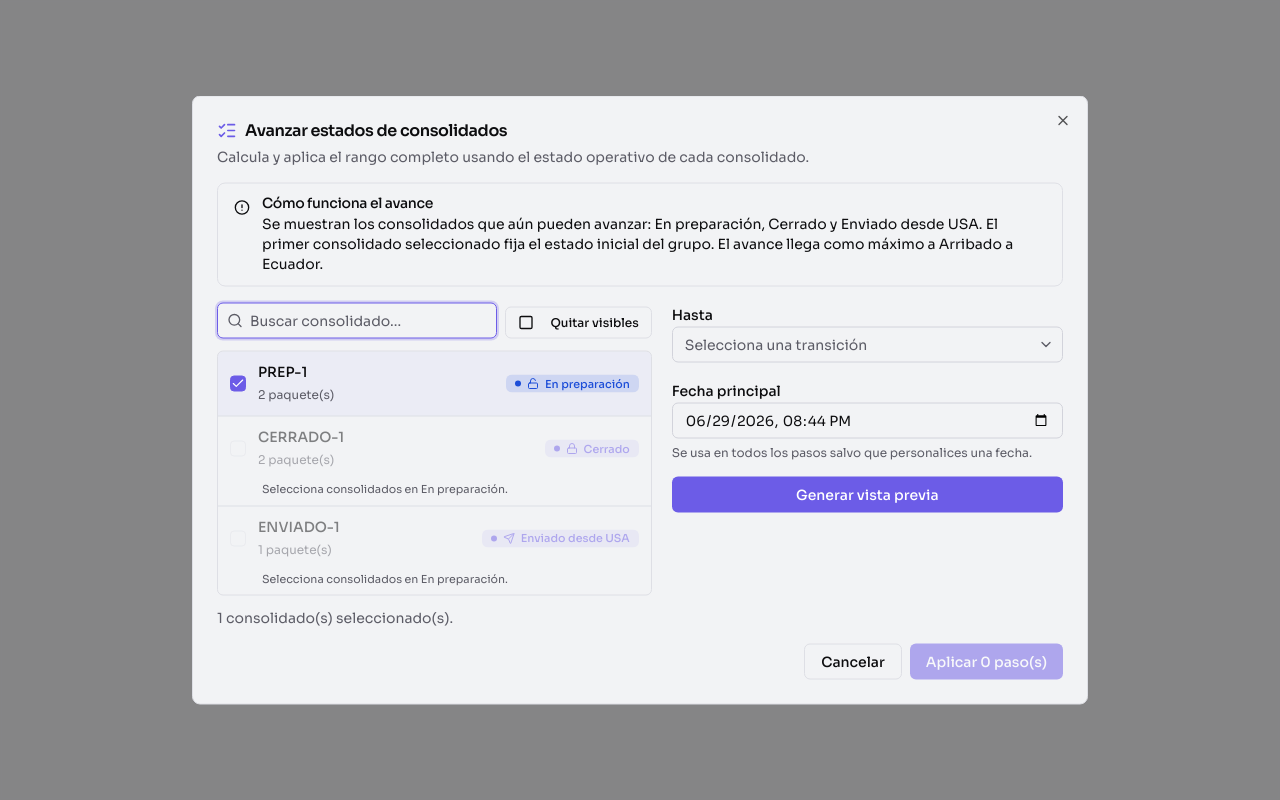
Scenario: AvanceEstadosConsolidadosDialog › muestra el mensaje de negocio devuelto por backend
The width and height of the screenshot is (1280, 800).
Click the dropdown named "Hasta": (867, 344) [672,326,1063,362]
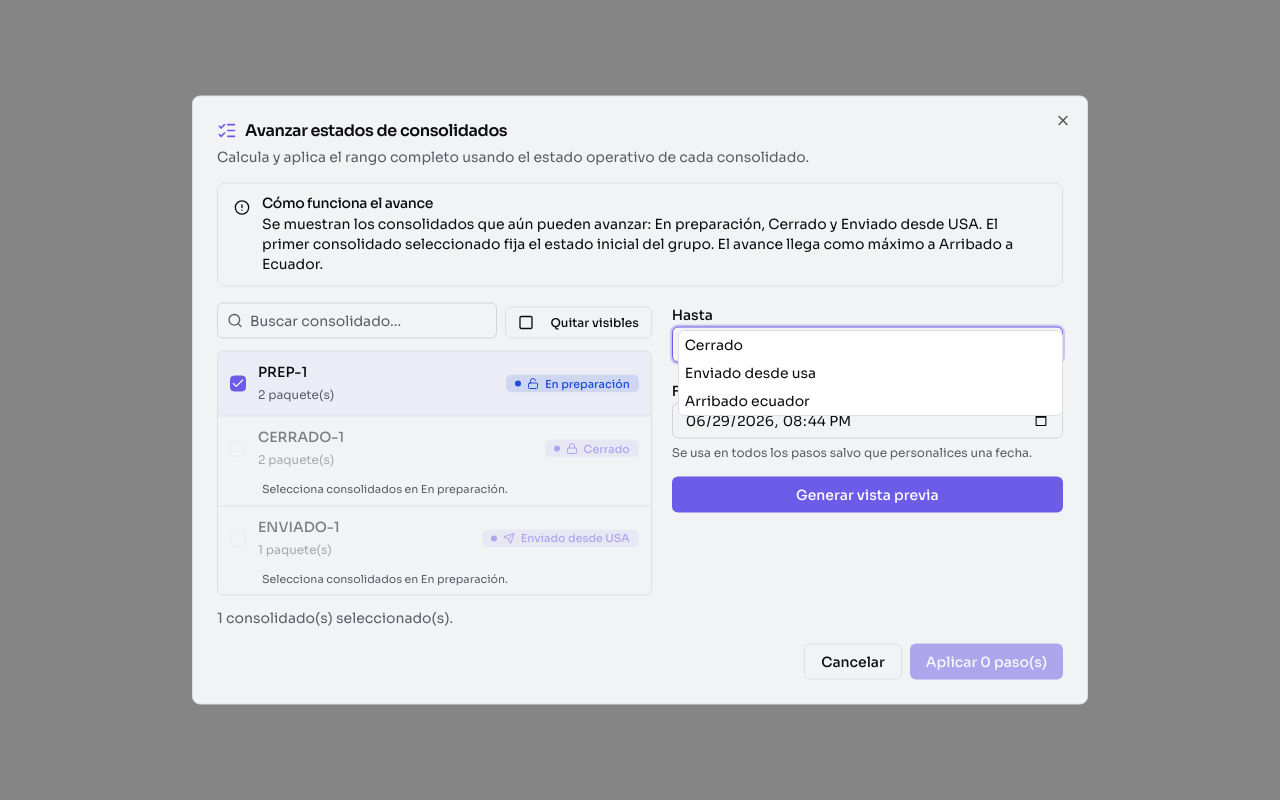
Click the option "Cerrado": (714, 344) [685,336,743,354]
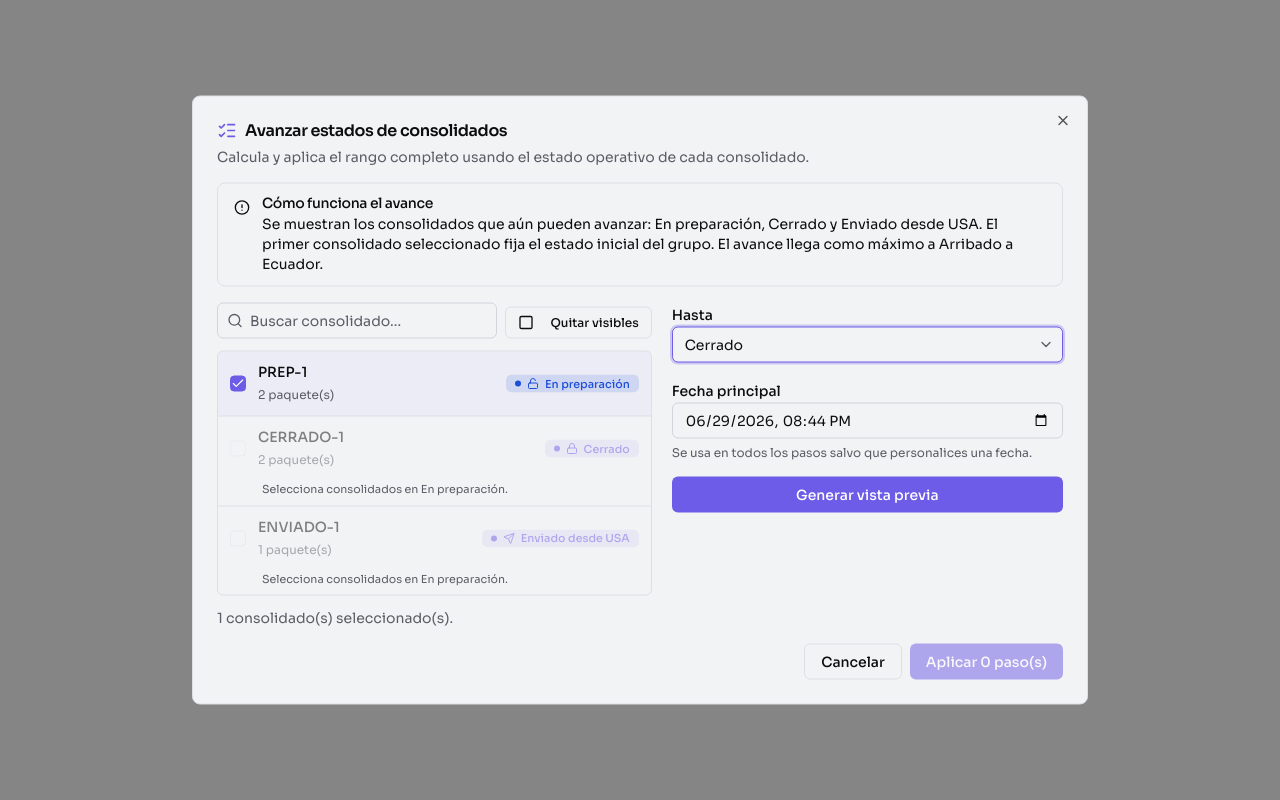
Click the button "Generar vista previa": (867, 494) [672,476,1063,512]
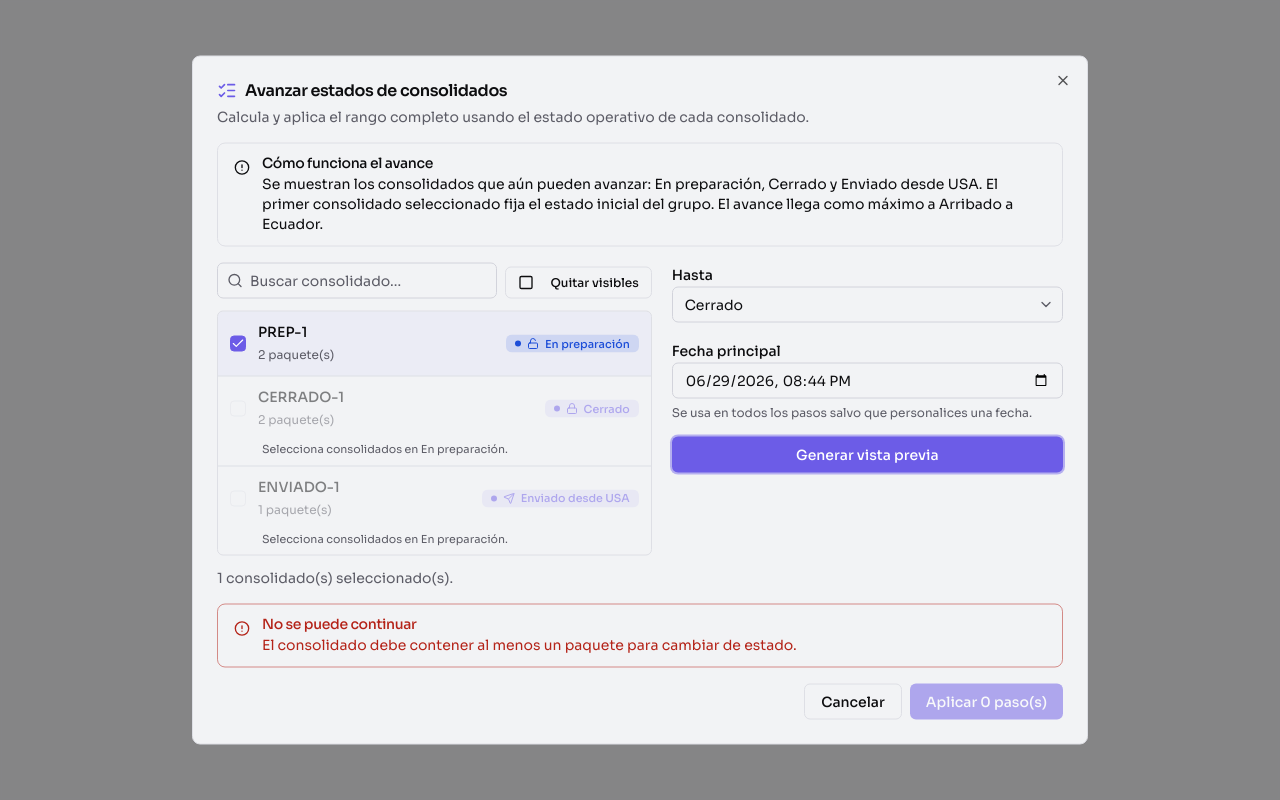
Expected: the text "El consolidado debe contener al menos un paquete para cambiar de estado." is shown, [262,636,797,654]
